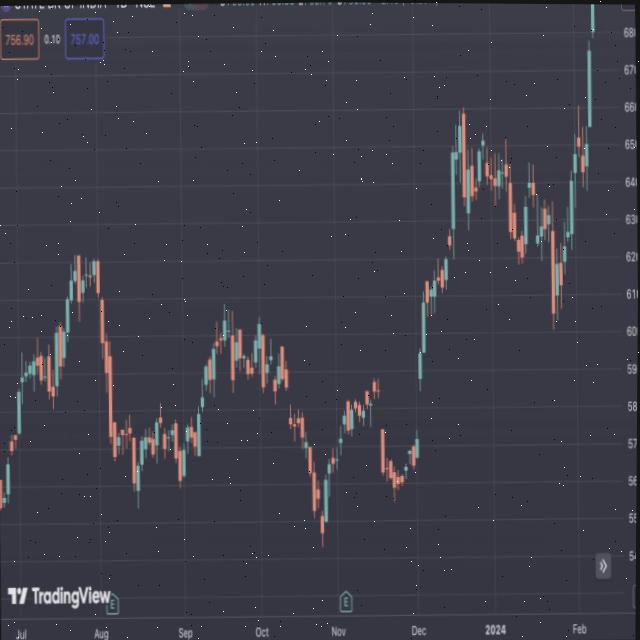Gap Down: (373, 371, 390, 478), (316, 479, 328, 568), (284, 352, 294, 449)
Gap Up: (410, 349, 431, 466), (439, 221, 456, 294)
